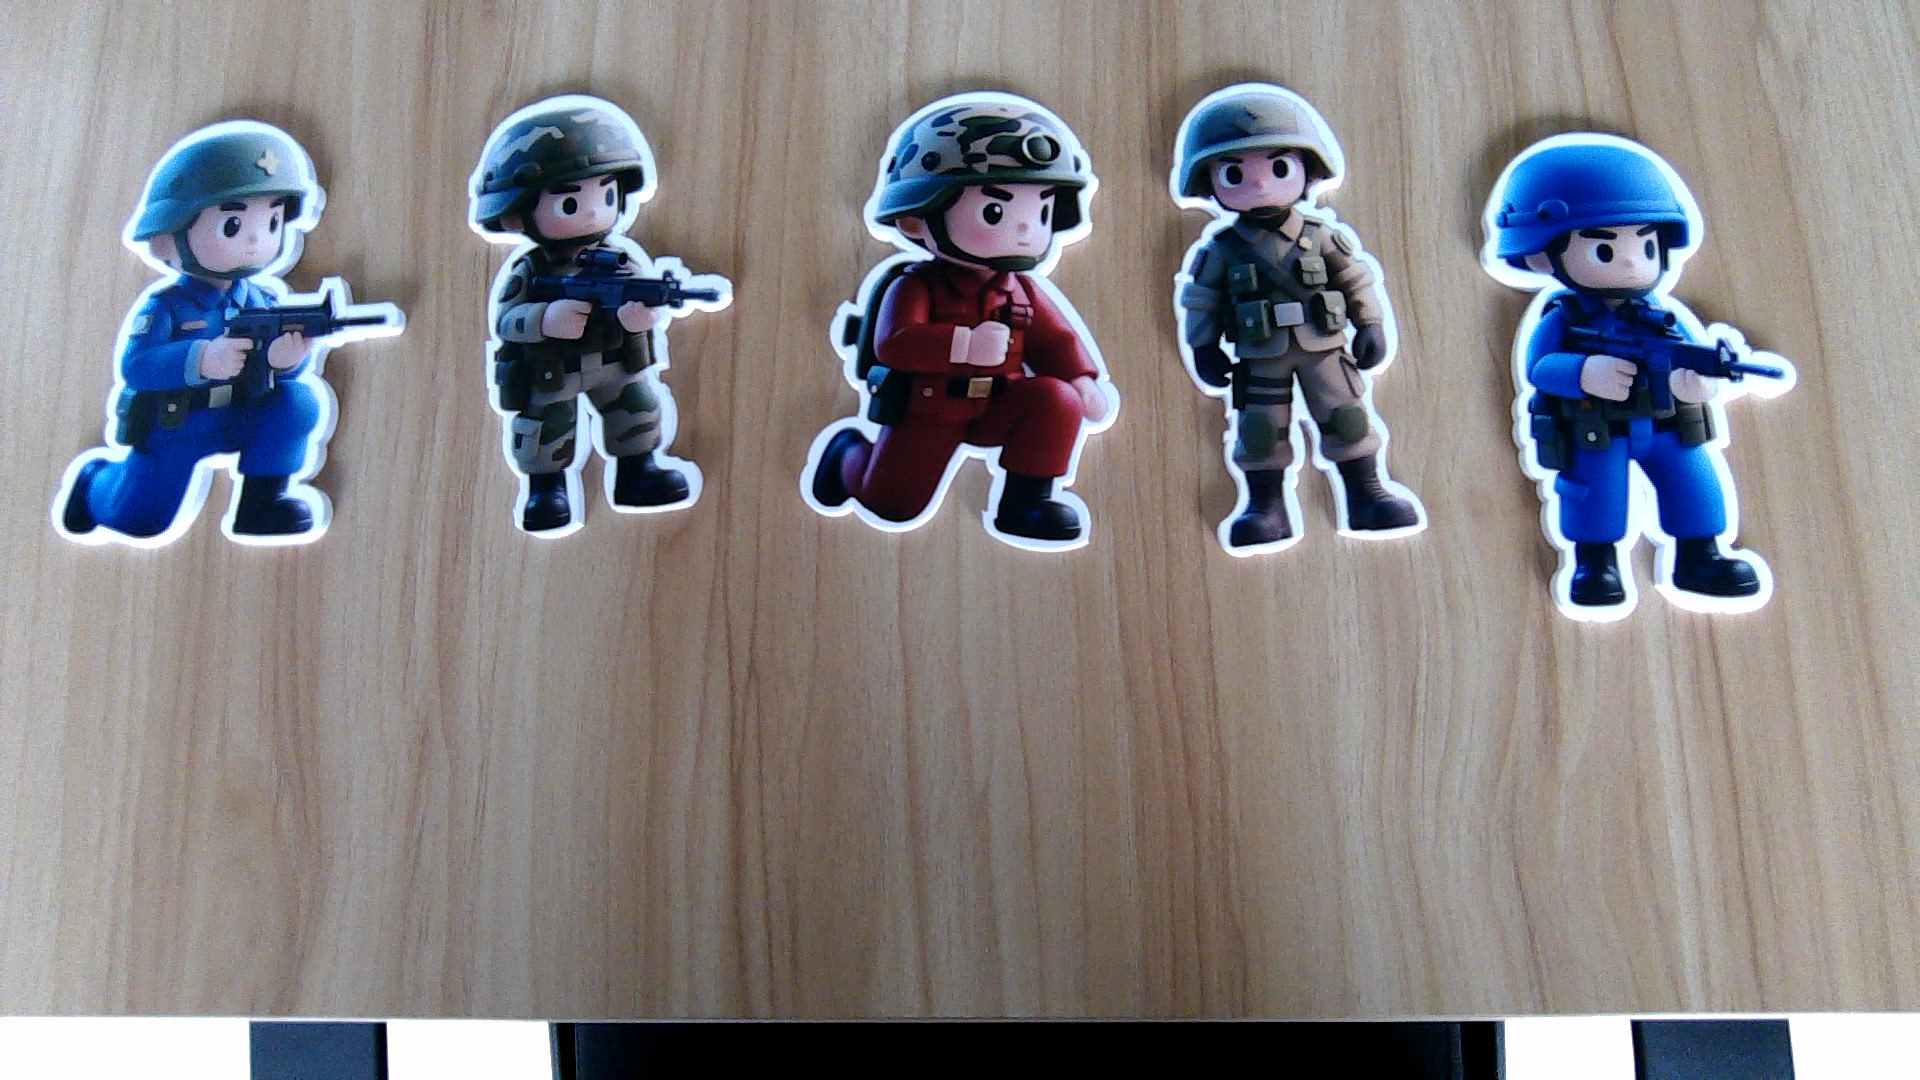友军: (1175, 219, 1429, 555), (476, 247, 735, 541)
敌人1: (794, 258, 1127, 560)
敌人2: (1493, 297, 1799, 633), (50, 282, 398, 553)
